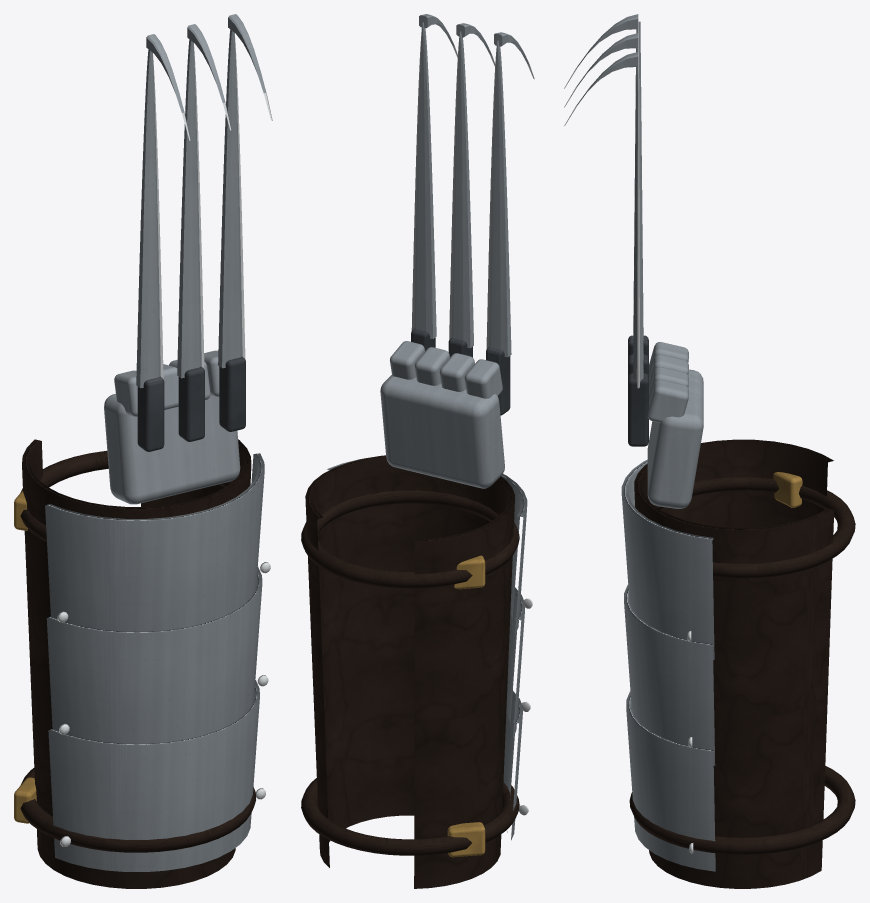
The model's file is hook-claws.glb.
3 renders of one model, left to right at view 1: azimuth 30°, elevation 25°; view 2: azimuth 150°, elevation 25°; view 3: azimuth 270°, elevation 25°, orthographic. The views are drawn at different scales.
Parts seen in each view (by area): view 1: steel / forged blade steel, leather / oiled leather wrap, darksteel / oil-blackened fittings, edge / honed bright bevel, brass / polished brass furniture; view 2: leather / oiled leather wrap, steel / forged blade steel, edge / honed bright bevel, brass / polished brass furniture, darksteel / oil-blackened fittings; view 3: leather / oiled leather wrap, steel / forged blade steel, darksteel / oil-blackened fittings, edge / honed bright bevel, brass / polished brass furniture.
Boxes of the visible parts, <box> form: steel / forged blade steel: <box>45,14,266,871</box>; leather / oiled leather wrap: <box>20,439,255,888</box>; darksteel / oil-blackened fittings: <box>137,356,245,451</box>; edge / honed bright bevel: <box>57,33,272,846</box>; brass / polished brass furniture: <box>14,490,36,823</box>; leather / oiled leather wrap: <box>301,455,519,888</box>; steel / forged blade steel: <box>327,14,529,840</box>; edge / honed bright bevel: <box>411,32,534,815</box>; brass / polished brass furniture: <box>447,555,485,857</box>; darksteel / oil-blackened fittings: <box>411,328,510,415</box>; leather / oiled leather wrap: <box>629,439,855,888</box>; steel / forged blade steel: <box>576,14,715,871</box>; darksteel / oil-blackened fittings: <box>628,335,648,446</box>; edge / honed bright bevel: <box>564,21,693,853</box>; brass / polished brass furniture: <box>773,472,802,507</box>.
Bounding box in the file's own units: 0.1579 × 0.6046 × 0.1964.
5 materials, 5 textured.
